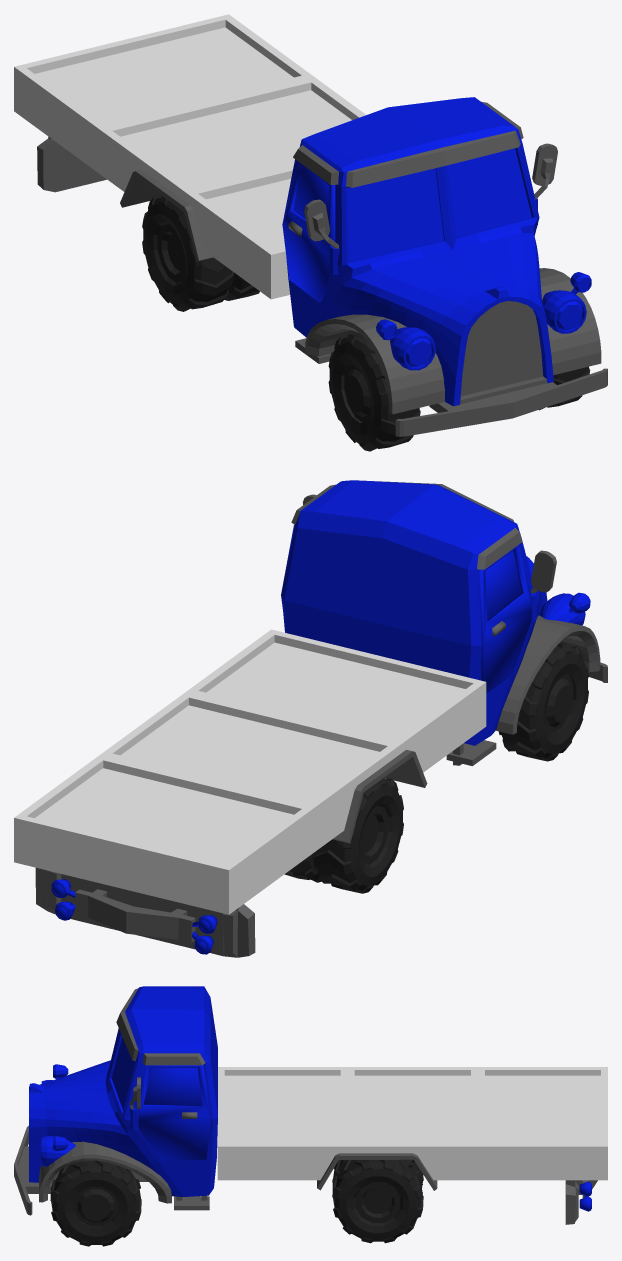
File: FlatboardTruck.fbx
3 views of the same model, one above another, from view 1: azimuth 30°, elevation 25°; view 2: azimuth 150°, elevation 25°; view 3: azimuth 270°, elevation 25° (orthographic). The views are drawn at different scales.
Visible parts, largest first — view 1: Truck_Bumper.001; view 2: Truck_Bumper.001; view 3: Truck_Bumper.001.
Part boxes in pixels (x1=…): Truck_Bumper.001: x1=14, y1=14, x2=607, y2=451; Truck_Bumper.001: x1=14, y1=480, x2=607, y2=957; Truck_Bumper.001: x1=14, y1=986, x2=607, y2=1246.
Size of the model in its own units: 506 by 511 by 1366.
